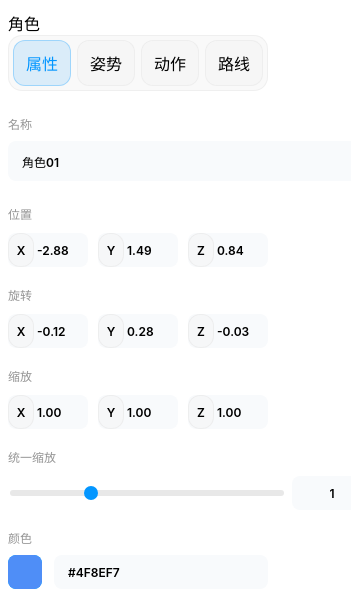
Test: displays role transform axes with consistent two-decimal precision without rounding stored values
Expected: the number field named "角色位置 Y" holds "1.49", [121,233,178,267]
Expected: the number field named "角色位置 Z" holds "0.84", [211,233,268,267]
Focus the number field named "角色位置 X" at (60, 250), box [31,233,88,267]
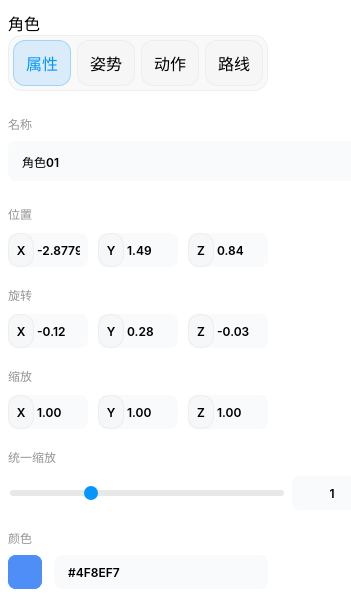
Expected: the number field named "角色位置 X" holds "-2.8779"
Leave the number field named "角色位置 X", box [31,233,88,267]
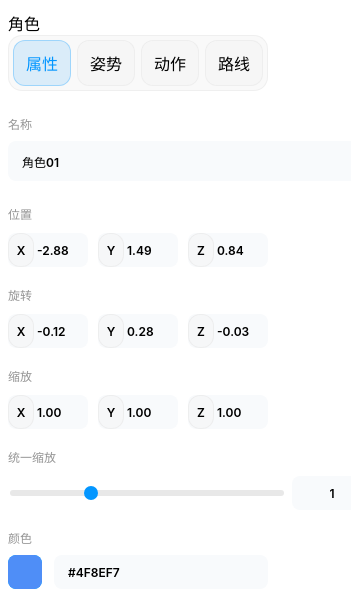
Expected: the number field named "角色位置 X" holds "-2.88", [31,233,88,267]
